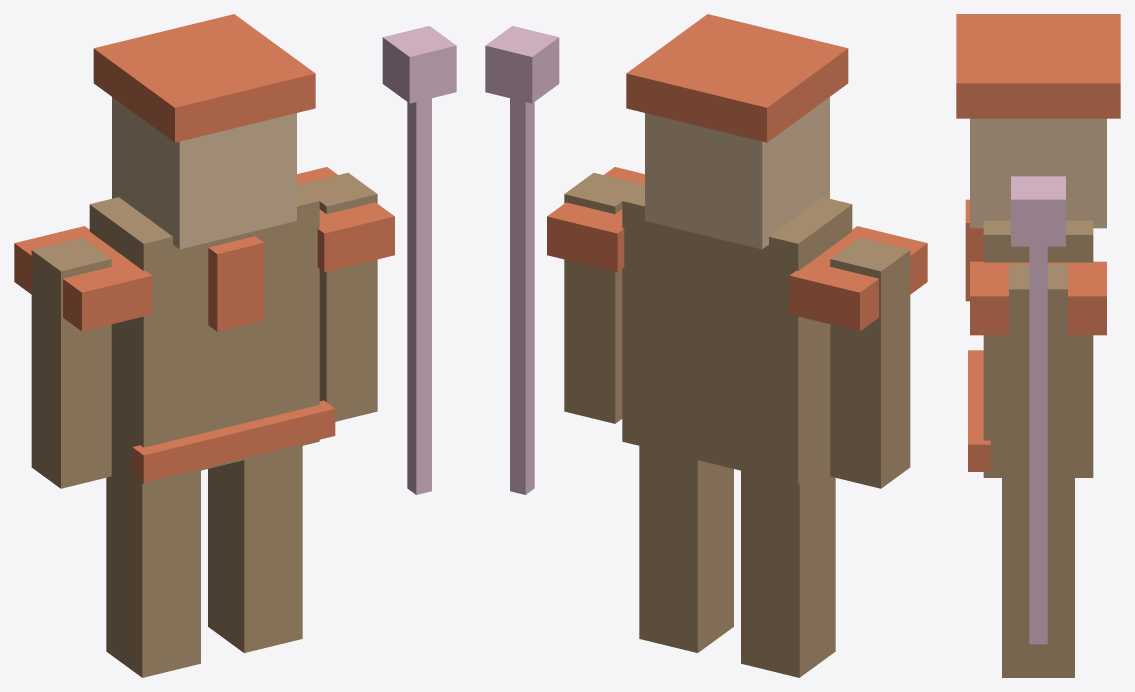
File: 03_ossa_ashvein_diver_of_choir.glb
3 views of the same model, side by side, from view 1: azimuth 30°, elevation 25°; view 2: azimuth 150°, elevation 25°; view 3: azimuth 270°, elevation 25° (orthographic).
Visible parts, largest first — view 1: Ossa Ashvein, Diver of Choir; view 2: Ossa Ashvein, Diver of Choir; view 3: Ossa Ashvein, Diver of Choir.
Part boxes in pixels (<box>): Ossa Ashvein, Diver of Choir: <box>14,14,456,677</box>; Ossa Ashvein, Diver of Choir: <box>485,14,927,677</box>; Ossa Ashvein, Diver of Choir: <box>956,14,1120,677</box>.
Size of the model in its own units: 1.07 by 1.51 by 0.3809.
